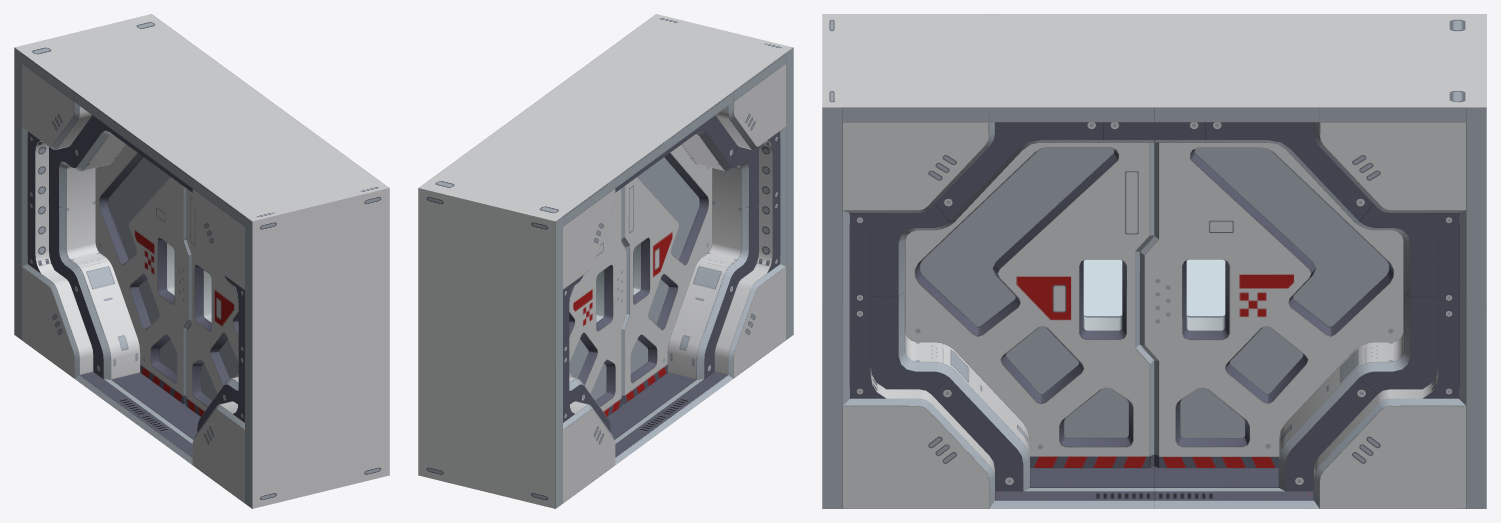
Rendered from Wall_Int_Door_Simple_02.FBX.
The picture shows the model from 3 angles, left to right: view 1: azimuth 30°, elevation 25°; view 2: azimuth 150°, elevation 25°; view 3: azimuth 270°, elevation 25°; orthographic projection. The views are drawn at different scales.
Visible parts, largest first — view 1: Wall_Int_Door_Simple_02, Door_Left, Door_Right; view 2: Wall_Int_Door_Simple_02, Door_Right, Door_Left; view 3: Wall_Int_Door_Simple_02, Door_Left, Door_Right.
Boxes of the visible parts, x1=… form: Wall_Int_Door_Simple_02: x1=14, y1=14, x2=389, y2=508; Door_Left: x1=95, y1=144, x2=191, y2=404; Door_Right: x1=186, y1=188, x2=238, y2=416; Wall_Int_Door_Simple_02: x1=418, y1=14, x2=793, y2=508; Door_Right: x1=621, y1=144, x2=712, y2=404; Door_Left: x1=569, y1=188, x2=626, y2=416; Wall_Int_Door_Simple_02: x1=822, y1=14, x2=1486, y2=508; Door_Left: x1=1140, y1=142, x2=1403, y2=467; Door_Right: x1=905, y1=142, x2=1154, y2=467.
Size of the model in its own units: 2 by 4 by 6.
5 materials, 4 textured.
